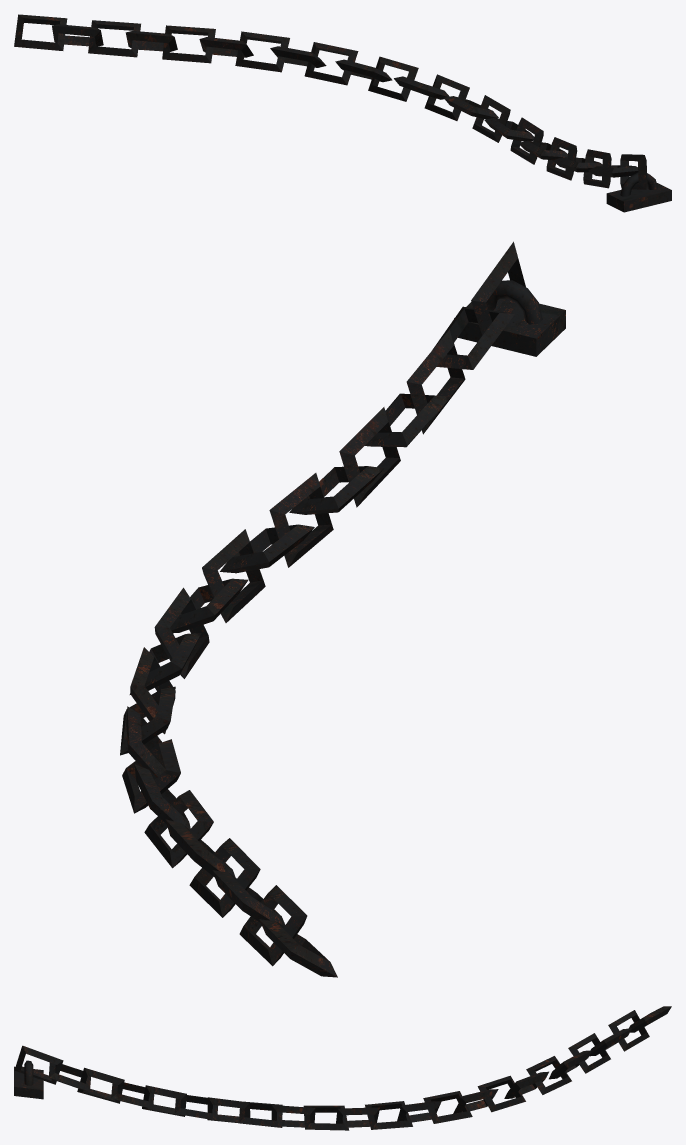
File: SM_Prop_Iron_Chain2.fbx
The picture shows the model from 3 angles, top to bottom: view 1: azimuth 30°, elevation 25°; view 2: azimuth 150°, elevation 25°; view 3: azimuth 270°, elevation 25°; orthographic projection. The views are drawn at different scales.
Parts seen in each view (by area): view 1: SM_Prop_Iron_Chain2_LOD0; view 2: SM_Prop_Iron_Chain2_LOD0; view 3: SM_Prop_Iron_Chain2_LOD0.
Boxes of the visible parts, box(x1,y1,x2,y2) form: SM_Prop_Iron_Chain2_LOD0: box(14, 14, 671, 212); SM_Prop_Iron_Chain2_LOD0: box(120, 241, 565, 977); SM_Prop_Iron_Chain2_LOD0: box(14, 1006, 671, 1130).
Size of the model in its own units: 223 by 516 by 76.48.
1 material, 1 textured.
